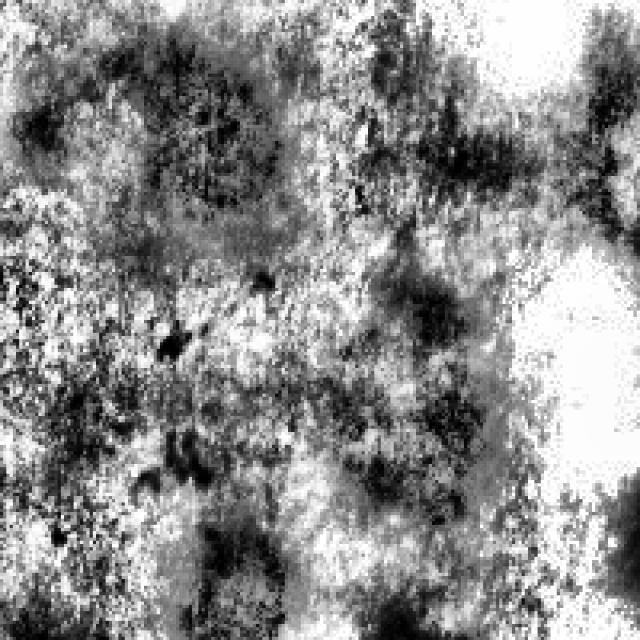Scratches: (9, 12, 276, 230), (400, 29, 637, 240), (323, 272, 496, 525), (170, 496, 300, 630)
